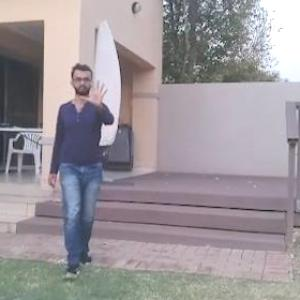follow_hand: (80, 76, 112, 110)
